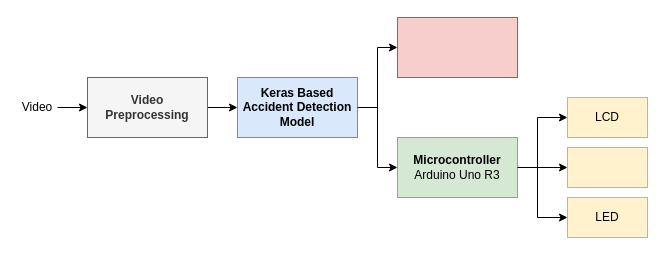
The diagram is 665 pixels wide and 255 high, and some of its shapes have lost their labels. The centre of each missing label's shape, as x and y in pixels:
Piezo Active Buzzer: (x=607, y=167)
SMS Notification Twilio SMS API: (x=457, y=47)
